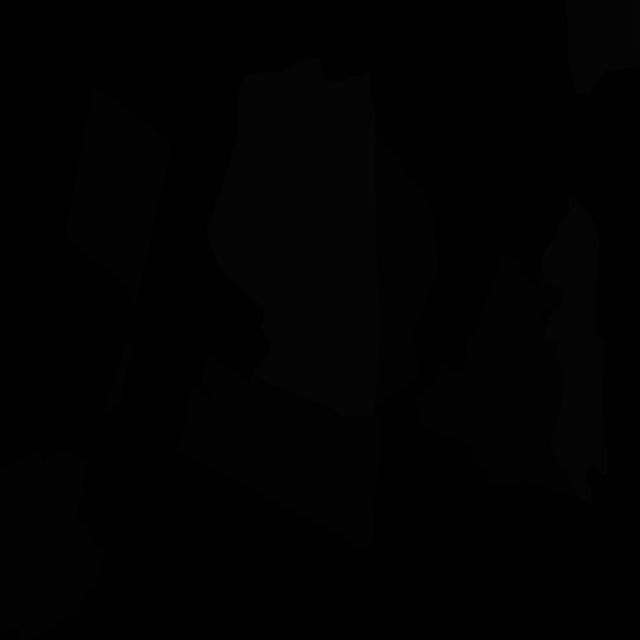cardboard: (179, 355, 381, 547), (416, 251, 564, 470), (64, 85, 171, 306), (18, 450, 105, 640), (481, 338, 581, 499), (374, 129, 438, 327), (0, 452, 42, 637), (375, 302, 418, 409), (104, 341, 132, 412)
soft_plastic: (206, 57, 380, 417), (542, 193, 607, 506), (564, 0, 640, 95)
